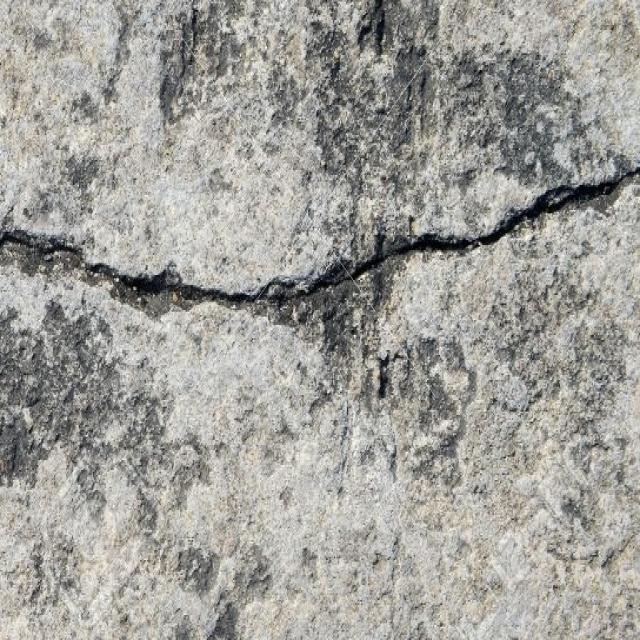Transverse: (0, 156, 640, 313)
